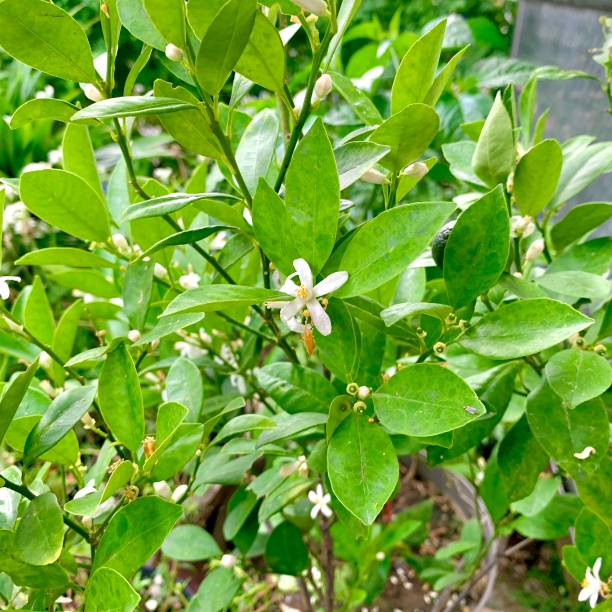flower: (266, 257, 354, 340), (570, 556, 612, 609), (300, 477, 343, 527)
